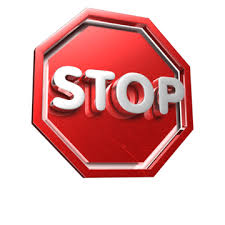stop sign: (30, 7, 191, 180)
